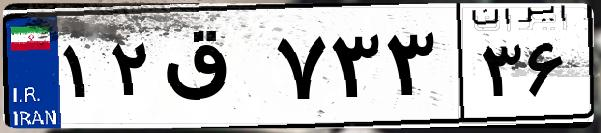1: (57, 26, 110, 100)
2: (110, 28, 158, 98)
3: (385, 28, 445, 110), (330, 28, 385, 110), (475, 38, 525, 113)
6: (525, 38, 570, 115)
7: (270, 28, 330, 110)
ق: (158, 20, 270, 120)
